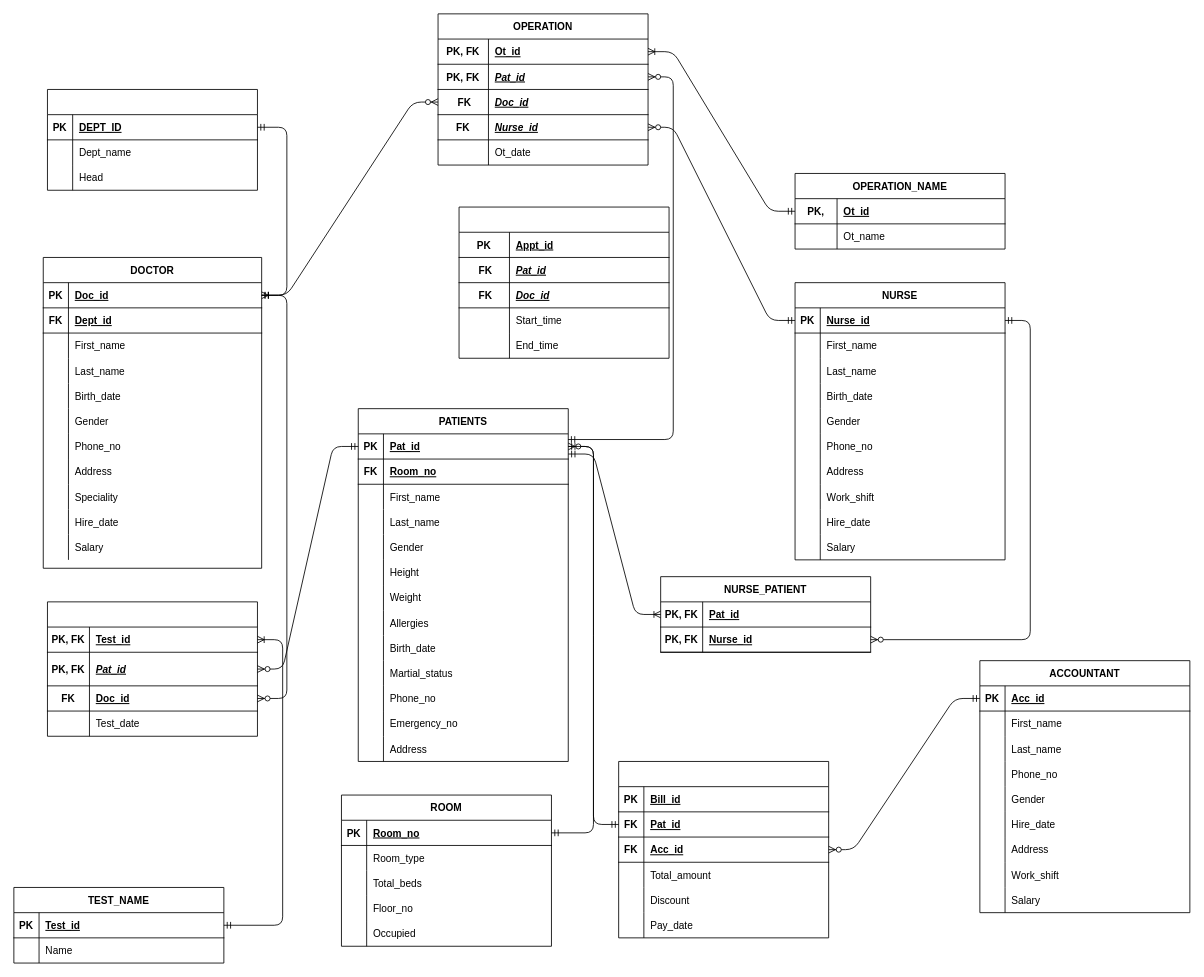
Some shapes in this 1204 by 977 pixel diagram are drawn without their labels. The box of each missing label's shape, as (x1, y1, x2, y2) in pixels:
APPOINTMENT: (458, 206, 669, 358)
DOC_DEPARTMENT: (47, 89, 257, 190)
PAYMENT: (618, 761, 829, 938)
TESTS: (47, 601, 257, 736)
